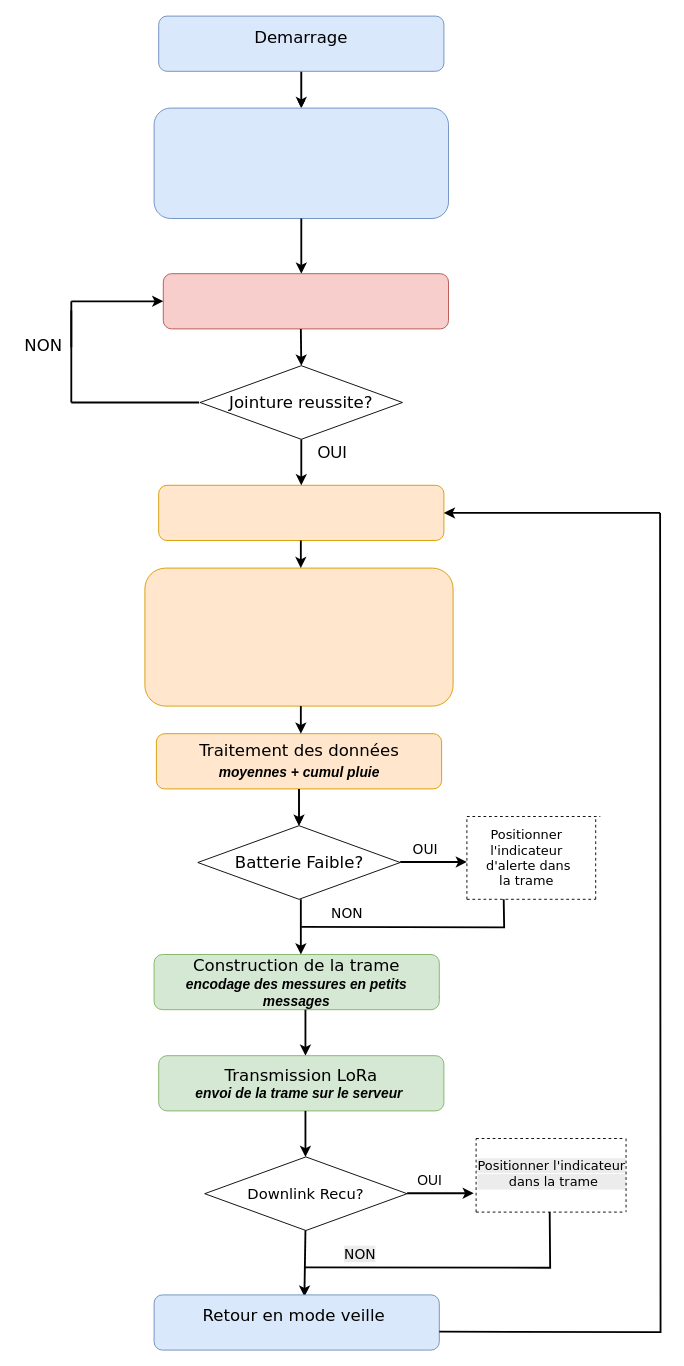
The diagram is 684 pixels wide and 1366 high, and some of its shapes have lost their labels. Each missing label, with the box of its shape:
Acquisition des capteurs SHT35 Anémomètre Girouette Pluviomètre Pyranomètre: (144, 567, 453, 706)
Initialisation du Système GPIO bus I2C/SPI compteurs d'impulsions: (153, 107, 448, 218)
Jointure Reseau TTN: (162, 273, 448, 329)
Réveil du micro-controleur: (158, 484, 444, 540)
